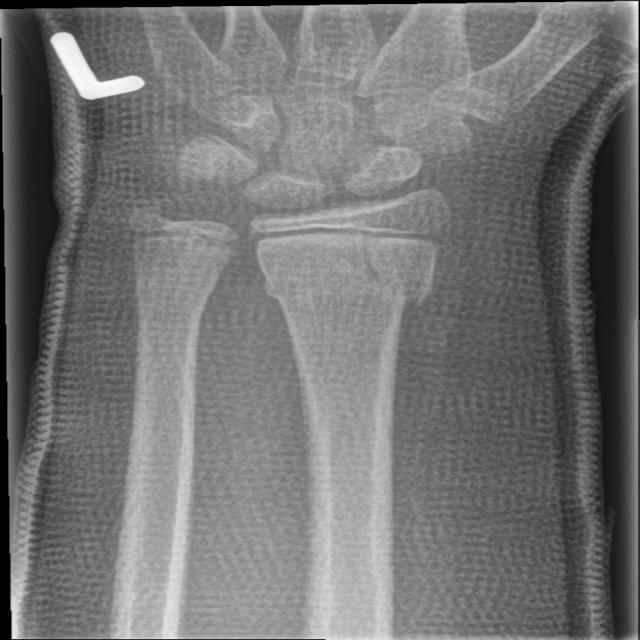radius fracture: (260, 242, 488, 374)
